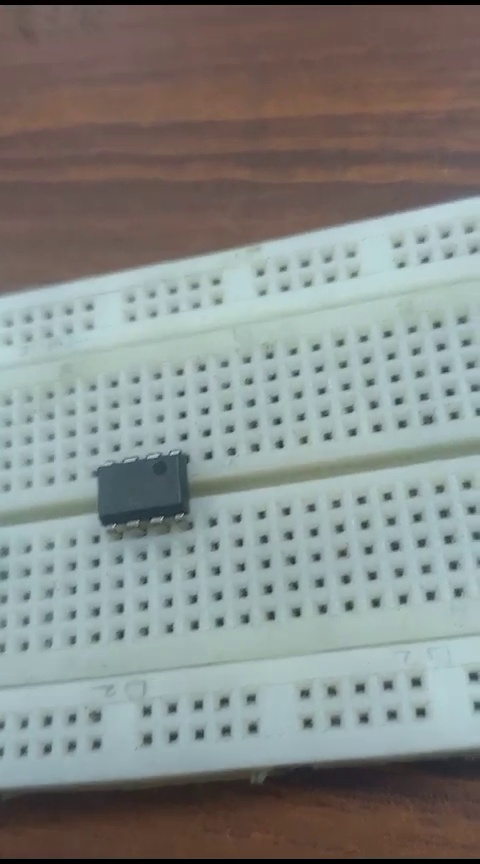IC: (94, 449, 200, 525)
